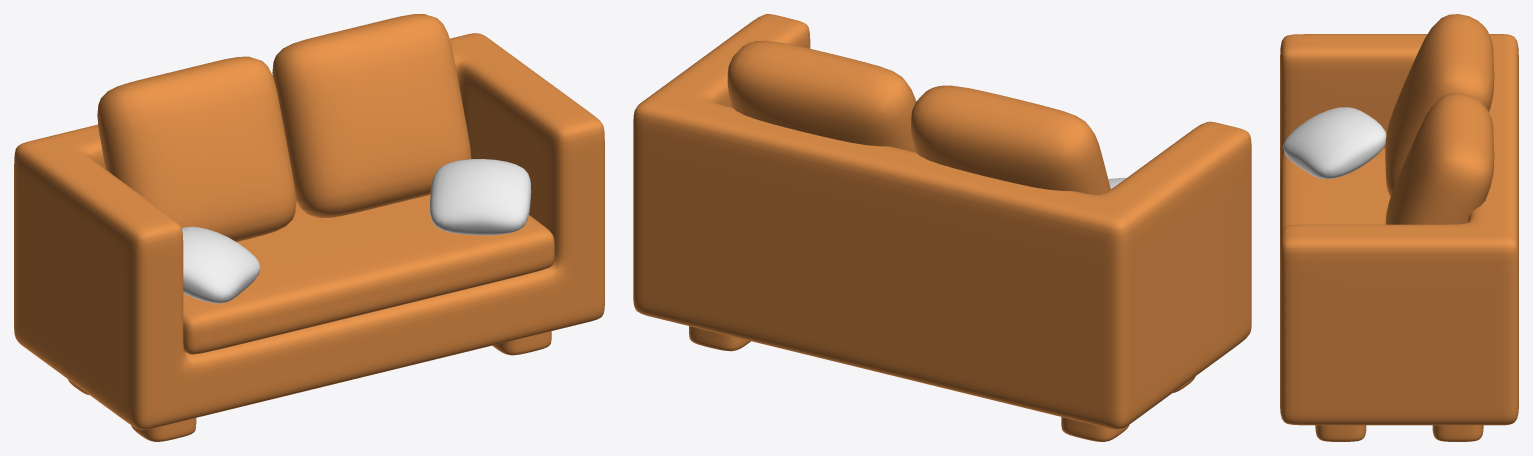
Rendered from sofá.fbx.
3 views of the same model, side by side, from view 1: azimuth 30°, elevation 25°; view 2: azimuth 150°, elevation 25°; view 3: azimuth 270°, elevation 25° (orthographic). The views are drawn at different scales.
Parts seen in each view (by area): view 1: Sillon, almohadagrande, almohadagrande.001, almohada.001, almohada, patas sofá; view 2: Sillon, almohadagrande.001, almohadagrande, patas sofá; view 3: Sillon, almohadagrande, almohadagrande.001, almohada, patas sofá.
Boxes of the visible parts, x1,y1,x2,y2 form: Sillon: (14, 33, 604, 429); almohadagrande: (272, 14, 471, 218); almohadagrande.001: (97, 56, 296, 241); almohada.001: (430, 159, 531, 235); almohada: (182, 226, 260, 303); patas sofá: (68, 331, 551, 441); Sillon: (633, 14, 1251, 429); almohadagrande.001: (911, 85, 1110, 194); almohadagrande: (727, 40, 916, 152); patas sofá: (689, 326, 1195, 441); Sillon: (1280, 34, 1518, 425); almohadagrande: (1385, 93, 1494, 224); almohadagrande.001: (1385, 14, 1494, 196); almohada: (1283, 107, 1386, 179); patas sofá: (1315, 425, 1483, 441).
Bounding box in the file's own units: 190 × 112 × 90.
